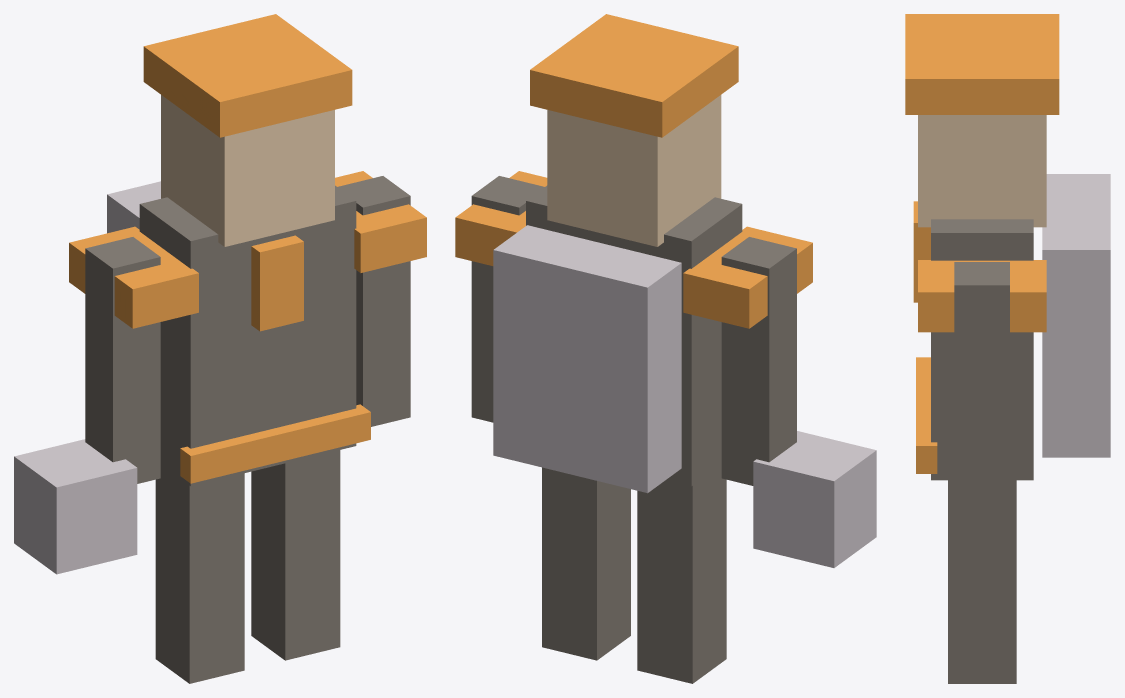
Rendered from 06_makoa_signalborn_specialist_near_kill.glb.
3 views of the same model, side by side, from view 1: azimuth 30°, elevation 25°; view 2: azimuth 150°, elevation 25°; view 3: azimuth 270°, elevation 25° (orthographic).
Parts seen in each view (by area): view 1: Makoa Signalborn, Specialist near Kill; view 2: Makoa Signalborn, Specialist near Kill; view 3: Makoa Signalborn, Specialist near Kill.
Part boxes in pixels (x1=…): Makoa Signalborn, Specialist near Kill: x1=14, y1=14, x2=426, y2=683; Makoa Signalborn, Specialist near Kill: x1=455, y1=14, x2=876, y2=683; Makoa Signalborn, Specialist near Kill: x1=905, y1=14, x2=1110, y2=683.
Bounding box in the file's own units: 1.08 × 1.68 × 0.5199.
